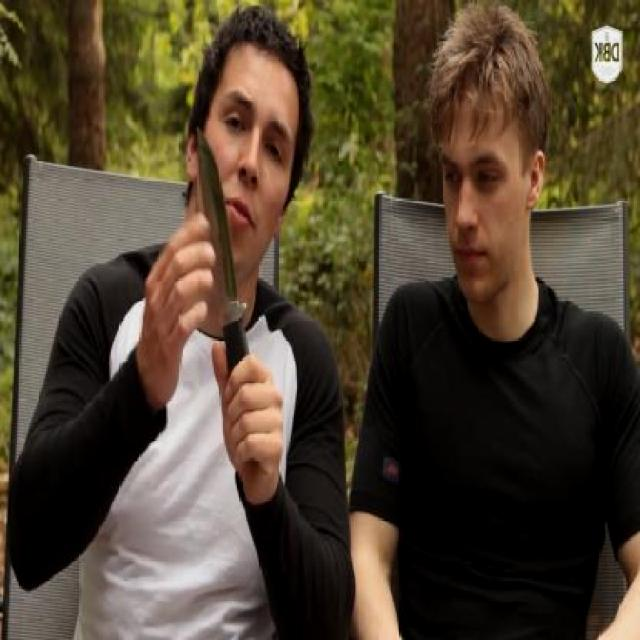knife: (185, 111, 269, 420)
